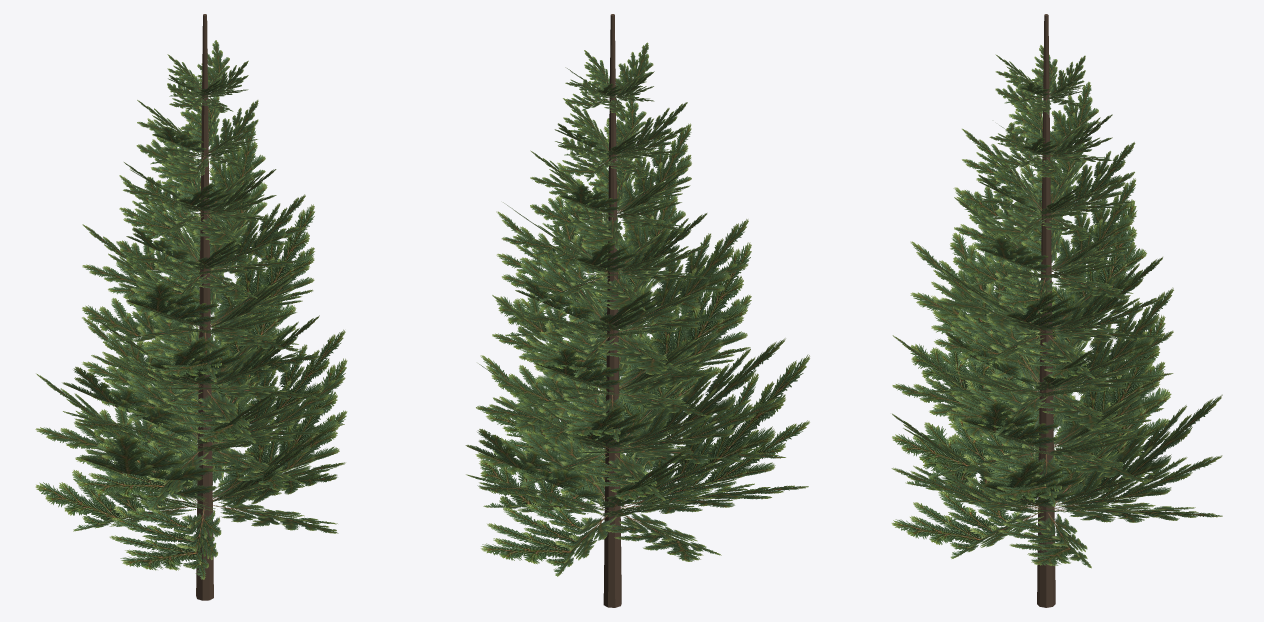
File: pine-1.glb
3 renders of one model, left to right at view 1: azimuth 30°, elevation 25°; view 2: azimuth 150°, elevation 25°; view 3: azimuth 270°, elevation 25°, orthographic.
Parts seen in each view (by area): view 1: pine-1; view 2: pine-1; view 3: pine-1.
Part boxes in pixels (bbox=[...]): pine-1: bbox=[35, 14, 347, 600]; pine-1: bbox=[465, 14, 809, 607]; pine-1: bbox=[891, 14, 1222, 607].
Size of the model in its own units: 10.71 by 18 by 11.07.
2 materials, 1 textured.
